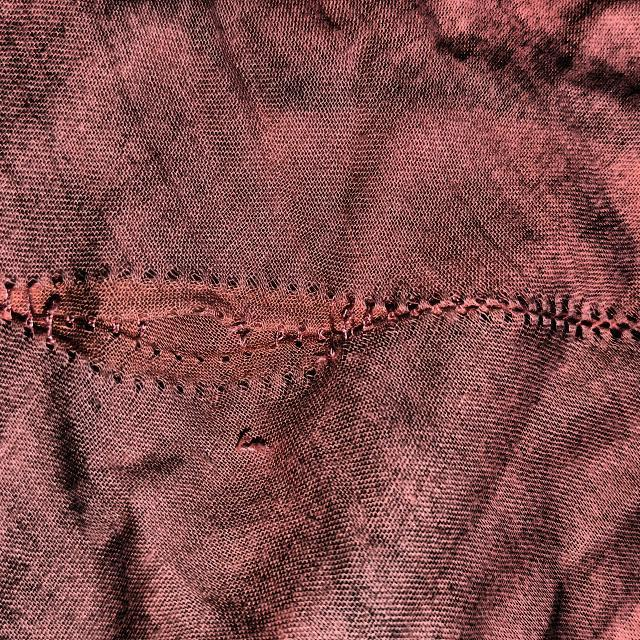gray stitch: (7, 240, 396, 443)
